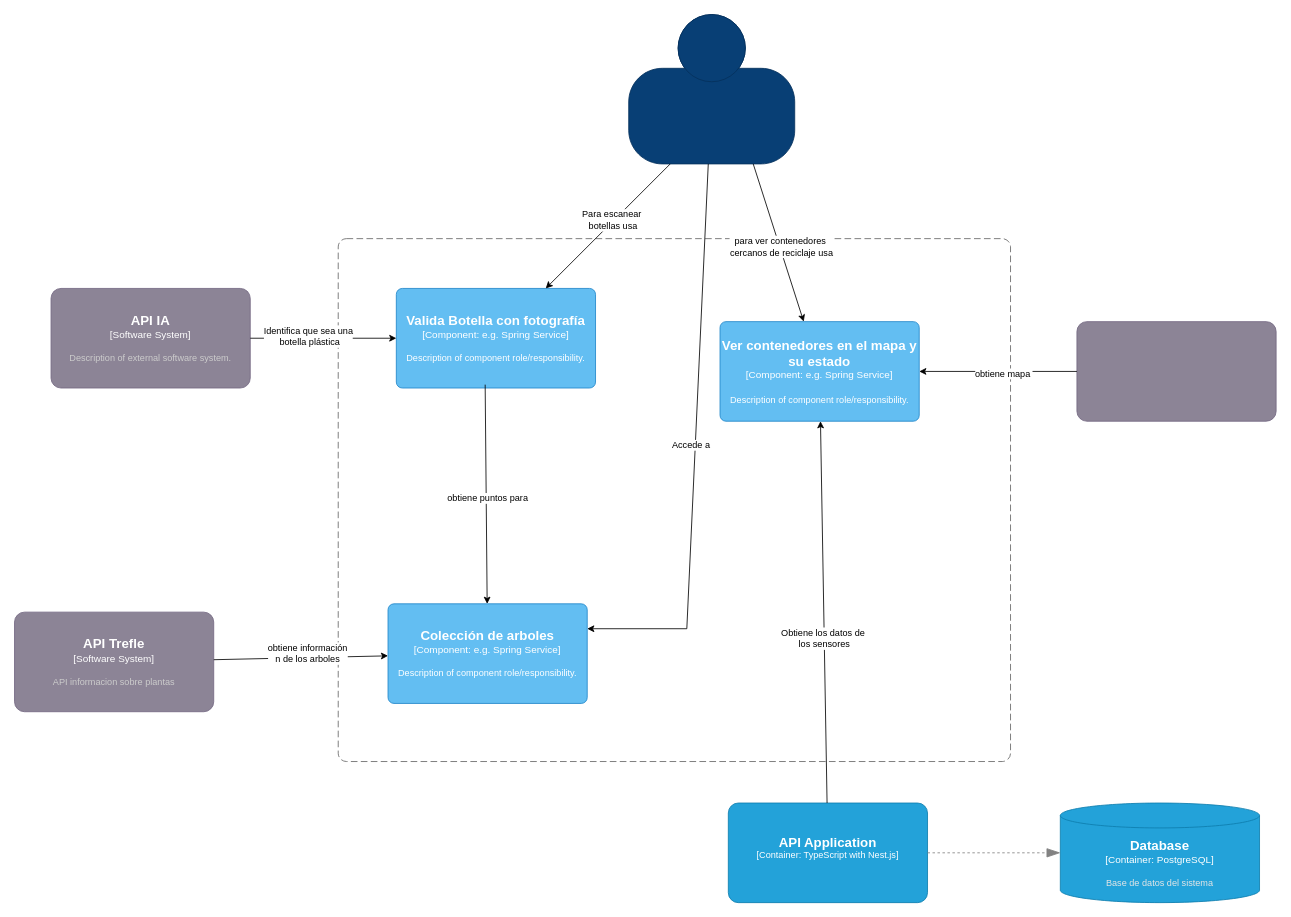
This 1291x917 diagram has some shape labels left out. The box of each missing label's shape, as (x1, y1, x2, y2) in pixels:
API Leaflet [Software System] API para obtener el mapa utilizado por el usuario: (1076, 321, 1276, 421)
Container name [Container]: (337, 238, 1011, 762)
Usuario [Person] Administrador del sistema: (628, 14, 795, 164)
